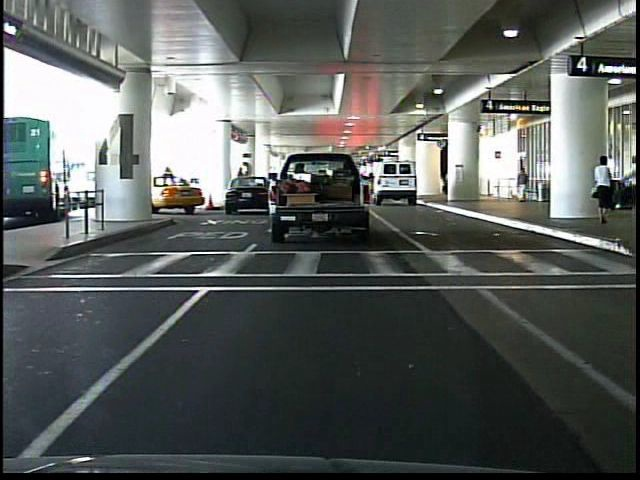person: (589, 153, 618, 228), (622, 152, 638, 222), (514, 160, 533, 207)
